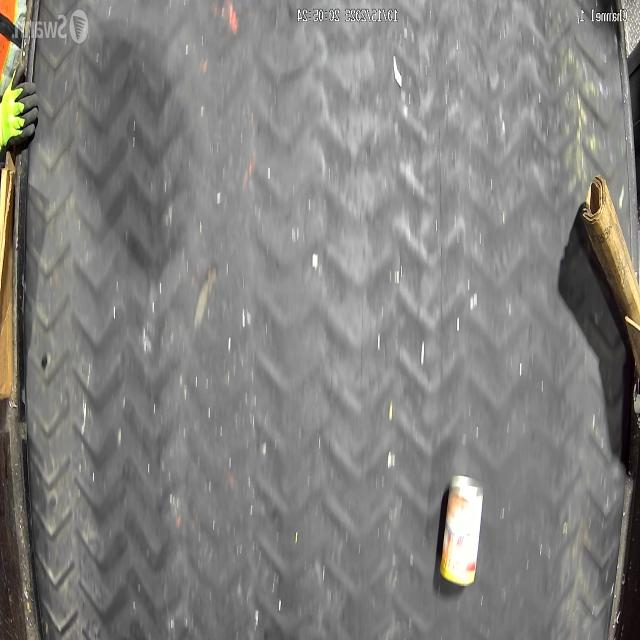can: (439, 474, 484, 587)
